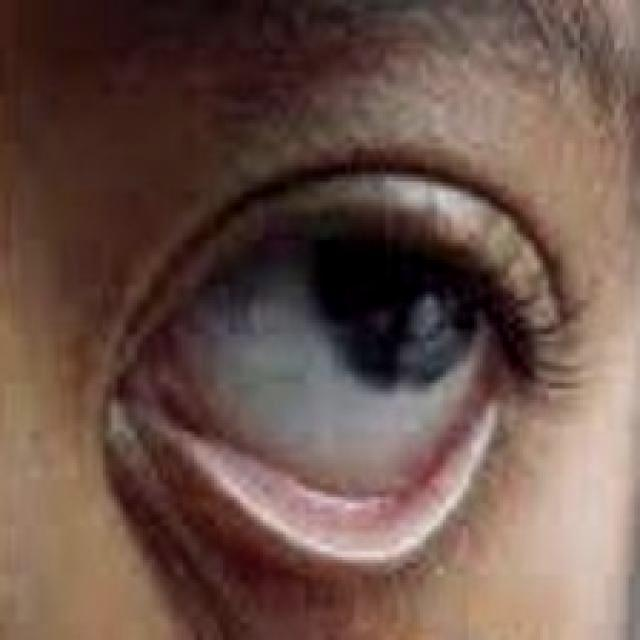conjunctiva_pallor: (171, 417, 456, 543)
